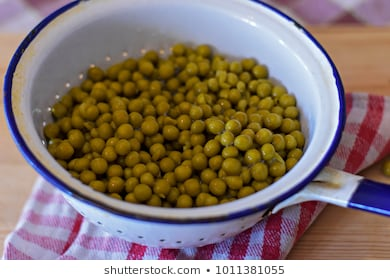boiled peas: (70, 58, 290, 194)
